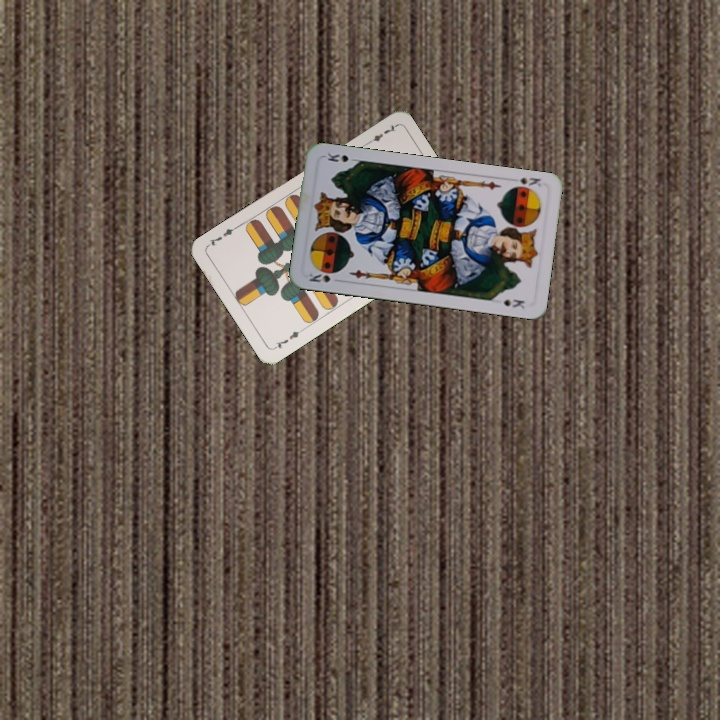E7: (362, 120, 399, 148), (270, 324, 306, 352)
SK: (305, 266, 344, 285), (516, 173, 543, 189)
